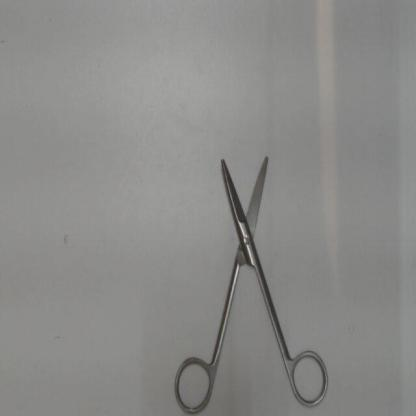Curved Mayo Scissors: (170, 138, 336, 415)
